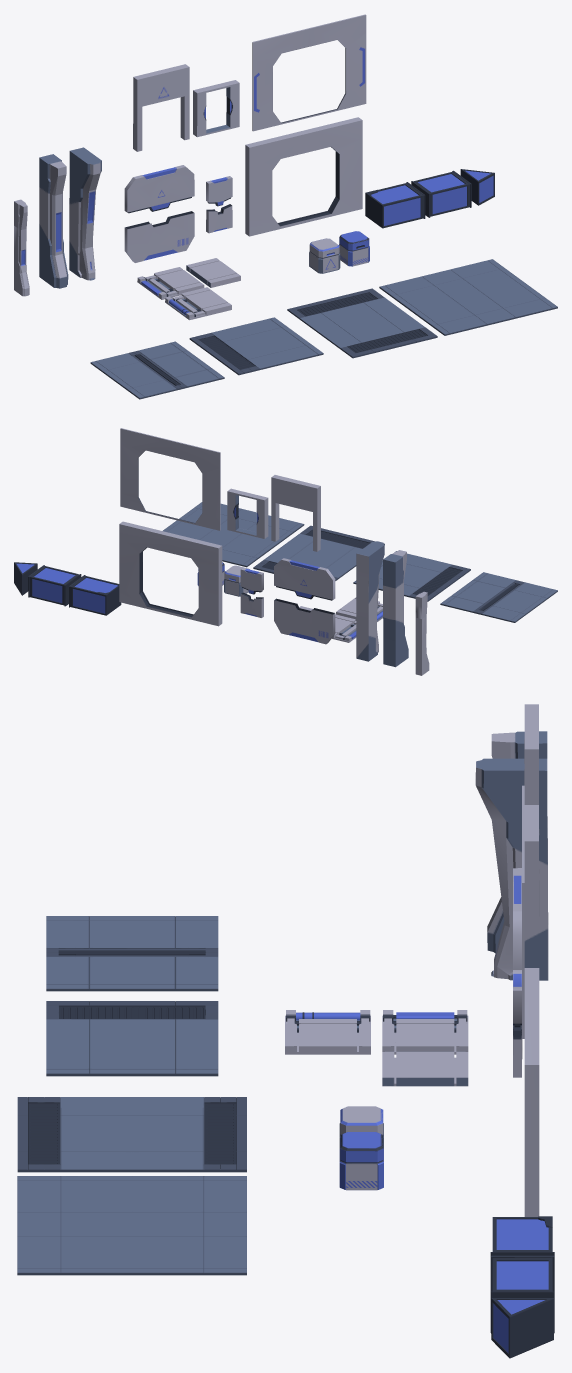
Rendered from Module list modeling_2.fbx.
The picture shows the model from 3 angles, top to bottom: view 1: azimuth 30°, elevation 25°; view 2: azimuth 150°, elevation 25°; view 3: azimuth 270°, elevation 25°; orthographic projection. The views are drawn at different scales.
Parts seen in each view (by area): view 1: Box5544, Box5519, Box6421, Box5521, Box5543, Box6422, Box5552, Box5551, Box6420, Box5553, Object067, Box6417 (+11 smaller); view 2: Box5519, Box5521, Box5544, Box6422, Box6421, Box5552, Box5551, Box6420, Box5543, Box5553, Object067, Box6417 (+9 smaller); view 3: Box5544, Box6421, Box5543, Box6422, Box5552, Box5519, Ceiling_004, Ceiling_001, Box6418, Ceiling_002, Box6419, Box5831 (+6 smaller).
Part boxes in pixels (x1,y1,x2,y2): Box5544: [379, 259, 557, 335]; Box5519: [245, 117, 362, 236]; Box6421: [287, 288, 437, 358]; Box5521: [252, 14, 366, 131]; Box5543: [189, 317, 323, 375]; Box6422: [90, 341, 224, 399]; Box5552: [69, 147, 101, 280]; Box5551: [39, 154, 68, 288]; Box6420: [133, 64, 189, 151]; Box5553: [124, 211, 194, 262]; Object067: [124, 165, 194, 213]; Box6417: [365, 182, 425, 228]; Box5519: [119, 521, 222, 626]; Box5521: [120, 428, 220, 530]; Box5544: [163, 502, 304, 567]; Box6422: [440, 572, 557, 622]; Box6421: [253, 525, 384, 580]; Box5552: [356, 541, 384, 661]; Box5551: [383, 550, 408, 667]; Box6420: [271, 475, 320, 551]; Box5543: [353, 551, 470, 601]; Box5553: [274, 598, 335, 644]; Object067: [274, 558, 335, 600]; Box6417: [69, 575, 121, 615]; Box5544: [17, 1176, 246, 1275]; Box6421: [17, 1097, 246, 1172]; Box5543: [46, 1001, 218, 1076]; Box6422: [46, 916, 218, 991]; Box5552: [475, 758, 548, 980]; Box5519: [524, 968, 539, 1216]; Ceiling_004: [285, 1010, 370, 1054]; Ceiling_001: [382, 1010, 468, 1054]; Box6418: [491, 1298, 553, 1358]; Ceiling_002: [382, 1051, 468, 1086]; Box6419: [490, 1255, 554, 1333]; Box5831: [339, 1132, 383, 1190].
Bounding box in the file's own units: 3445 × 1416 × 1872.
Materials: 1 (1 with a texture image).
